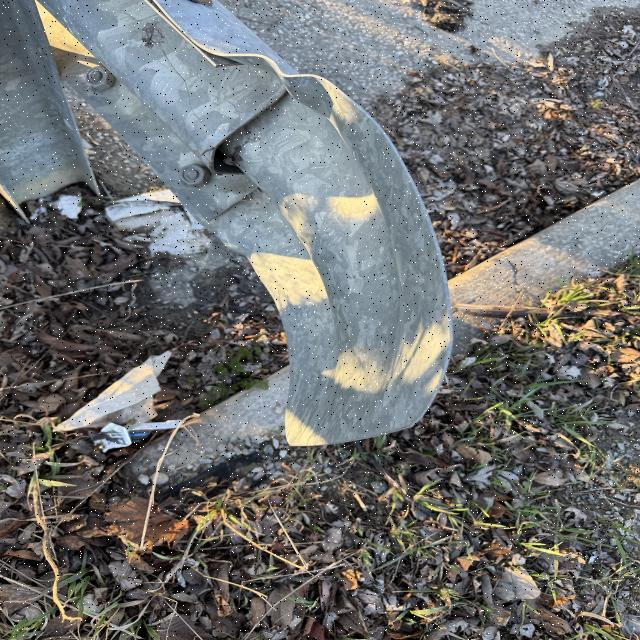Guard rail: (0, 10, 435, 299)
